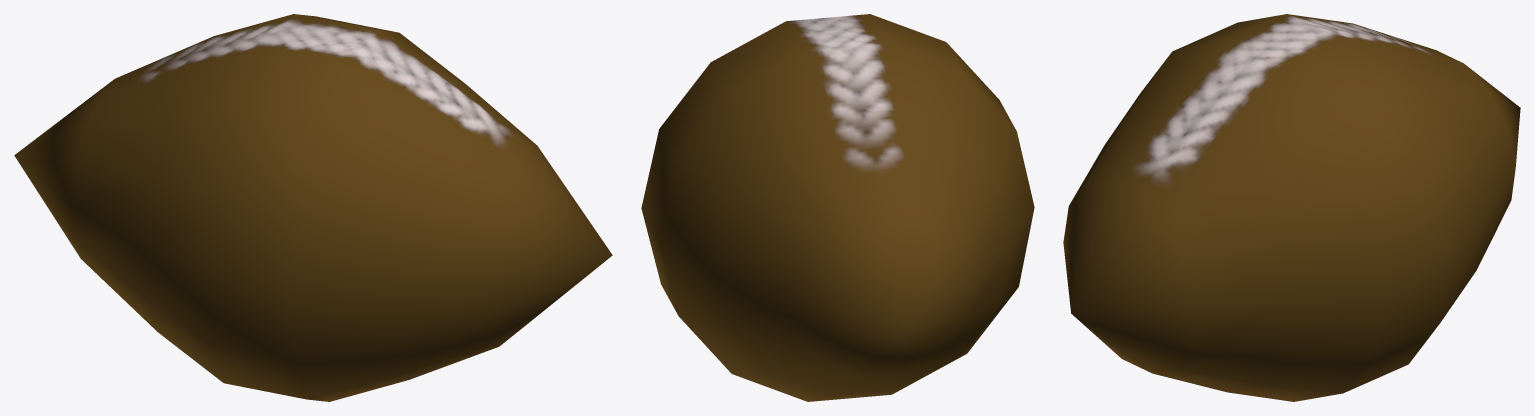
Rendered from american football exp resend.fbx.
3 views of the same model, side by side, from view 1: azimuth 30°, elevation 25°; view 2: azimuth 150°, elevation 25°; view 3: azimuth 270°, elevation 25° (orthographic).
Parts seen in each view (by area): view 1: Sphere002; view 2: Sphere002; view 3: Sphere002.
Part boxes in pixels (x1,y1,x2,y2): Sphere002: (14, 14, 612, 401); Sphere002: (641, 14, 1034, 401); Sphere002: (1063, 14, 1520, 401).
Size of the model in its own units: 6.03 by 5.23 by 6.33.
